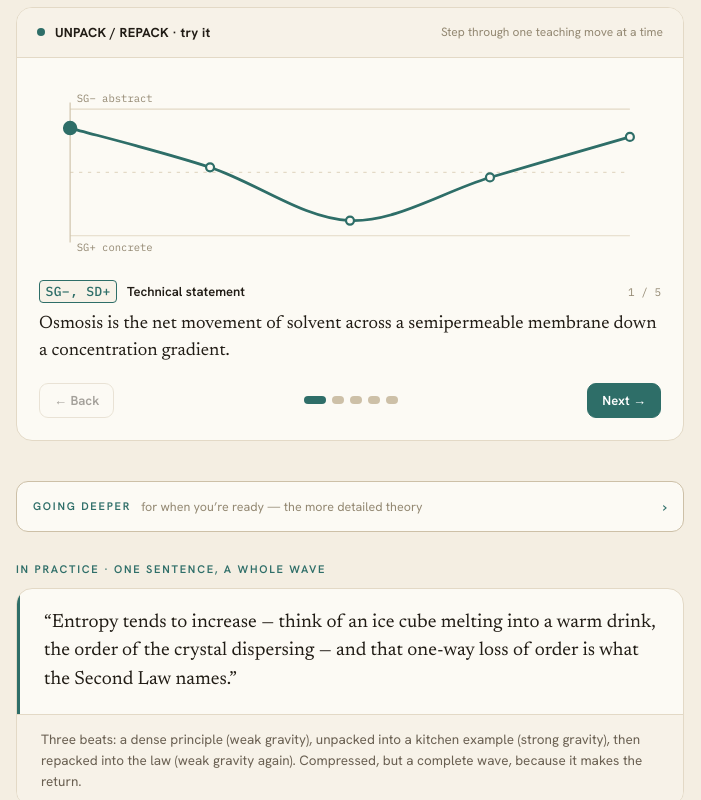
Test: Wavelength views mount cleanly › steps through the Semantics unpack/repack lab without error
(page scrolled)
Note: the lab's "Next →" renders before the footer dimension-nav's "Next →"
Click the button "Next →" at (624, 400), box [587, 383, 661, 418]
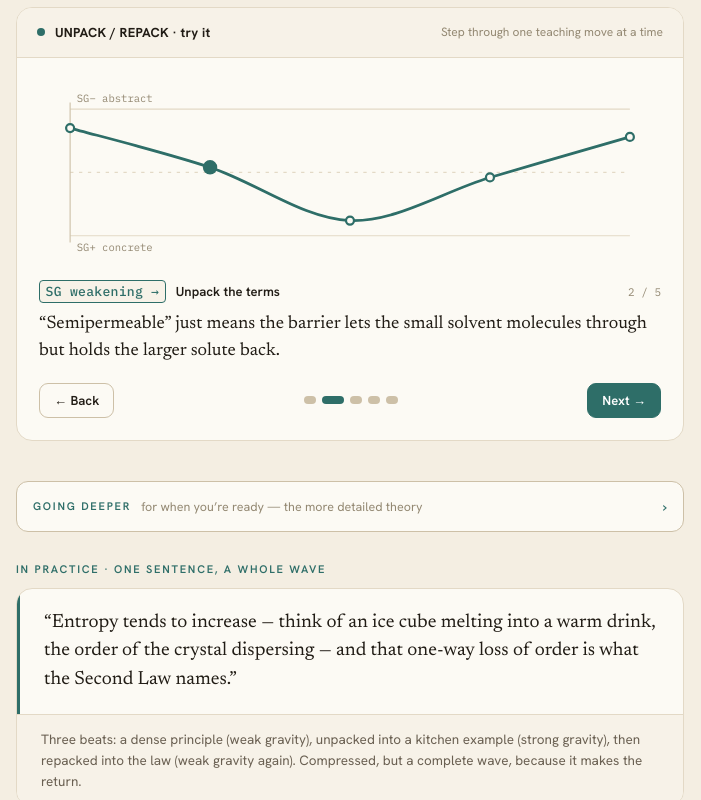
Click the button "Next →" at (624, 400), box [587, 383, 661, 418]
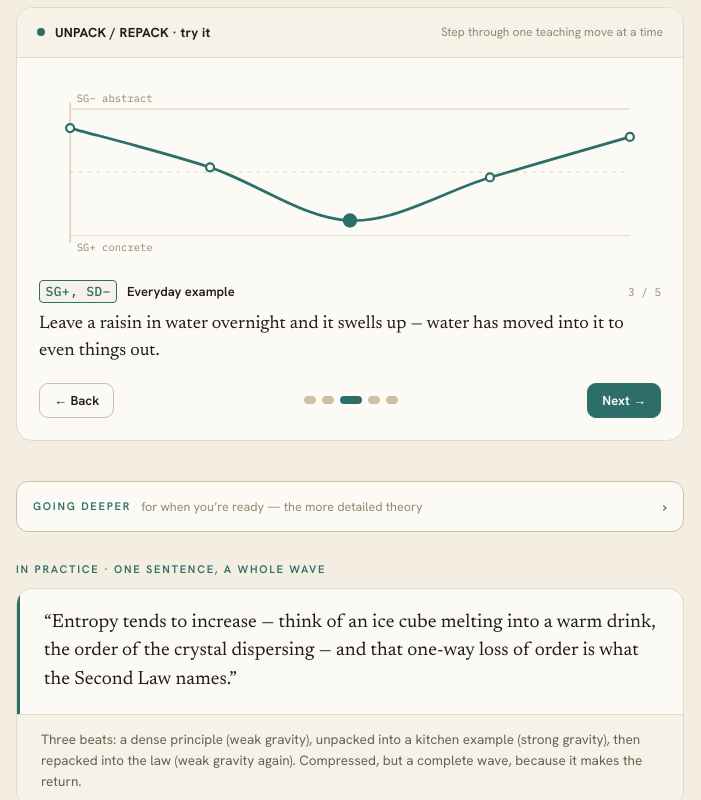
Expected: the text "3 / 5" is shown, [628, 284, 661, 298]
